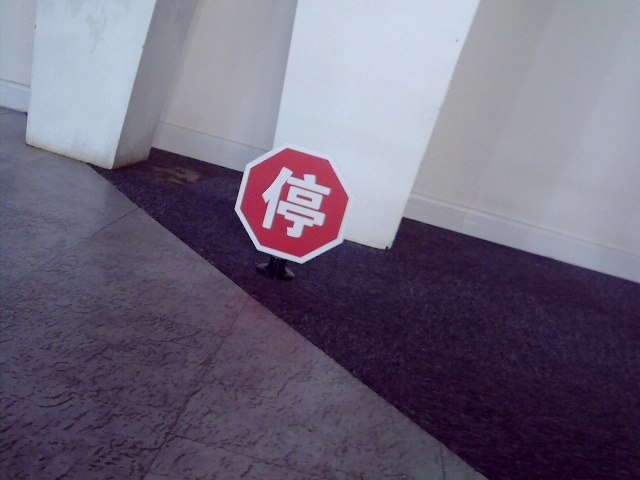stop: (258, 164, 331, 237)
